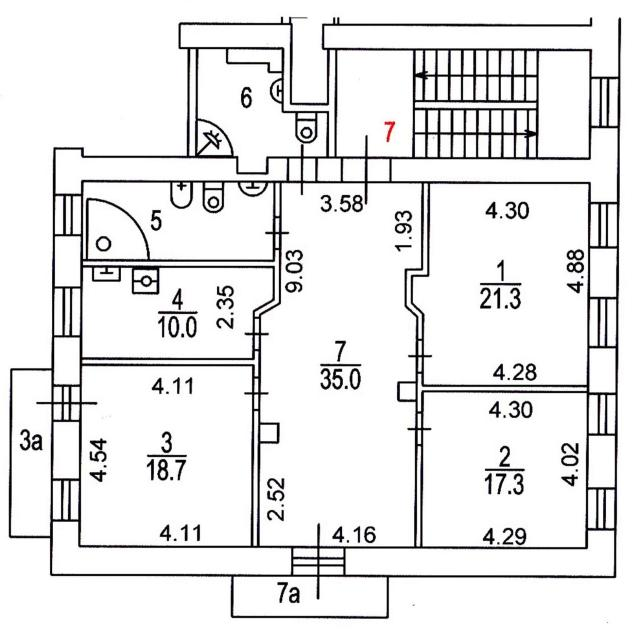Bathrooms: (198, 50, 326, 171), (84, 184, 273, 259)
Corridors: (261, 184, 420, 546), (234, 578, 386, 616), (13, 371, 48, 535)
Doors: (292, 523, 344, 602), (343, 132, 391, 206), (36, 387, 99, 421), (288, 143, 317, 197), (403, 412, 433, 447), (242, 318, 271, 350), (405, 340, 433, 373), (243, 379, 270, 409), (264, 218, 290, 249)
LBwalls: (320, 18, 620, 77), (391, 128, 621, 202), (50, 521, 292, 577), (344, 530, 616, 578), (51, 145, 290, 193), (178, 21, 293, 48), (52, 420, 81, 479), (586, 436, 617, 489), (588, 248, 619, 298), (51, 337, 82, 387), (53, 236, 82, 287), (586, 350, 619, 393), (317, 157, 342, 183), (260, 423, 279, 443), (398, 382, 416, 401)
Offices: (414, 185, 587, 384), (83, 367, 251, 545), (426, 395, 584, 546), (83, 268, 271, 357)
Stairs: (338, 51, 588, 157)
Walls: (81, 248, 282, 318), (415, 373, 587, 412), (281, 48, 338, 157), (82, 350, 262, 378), (403, 184, 431, 340), (187, 49, 197, 155), (252, 410, 259, 546), (415, 445, 423, 548), (273, 183, 282, 218)
Windows: (587, 296, 619, 349), (589, 76, 620, 128), (52, 286, 83, 338), (587, 201, 619, 248), (586, 393, 618, 436), (586, 487, 618, 530), (50, 480, 82, 522), (52, 193, 83, 236)
